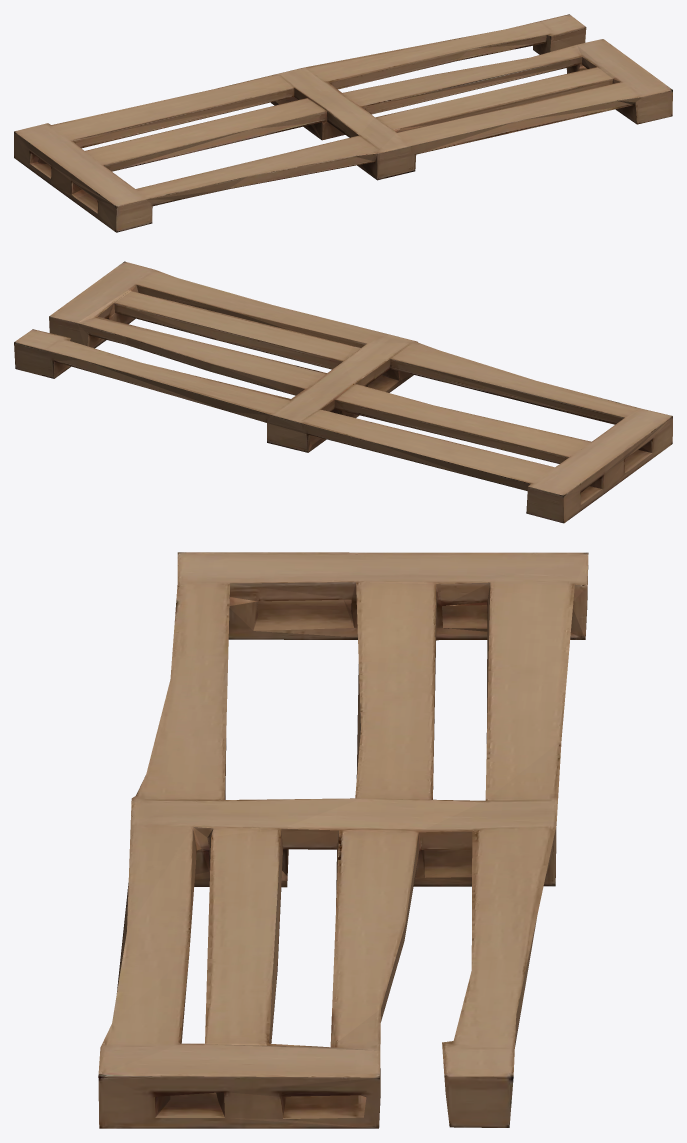
Rendered from pallets.glb.
The picture shows the model from 3 angles, top to bottom: view 1: azimuth 30°, elevation 25°; view 2: azimuth 150°, elevation 25°; view 3: azimuth 270°, elevation 25°; orthographic projection. The views are drawn at different scales.
Parts seen in each view (by area): view 1: geometry_0; view 2: geometry_0; view 3: geometry_0.
Part boxes in pixels (x1=…): geometry_0: x1=14, y1=14, x2=672, y2=232; geometry_0: x1=14, y1=261, x2=672, y2=523; geometry_0: x1=98, y1=552, x2=588, y2=1128.
Bounding box in the file's own units: 0.9996 × 0.0509 × 0.3945.
Materials: 1 (1 with a texture image).
